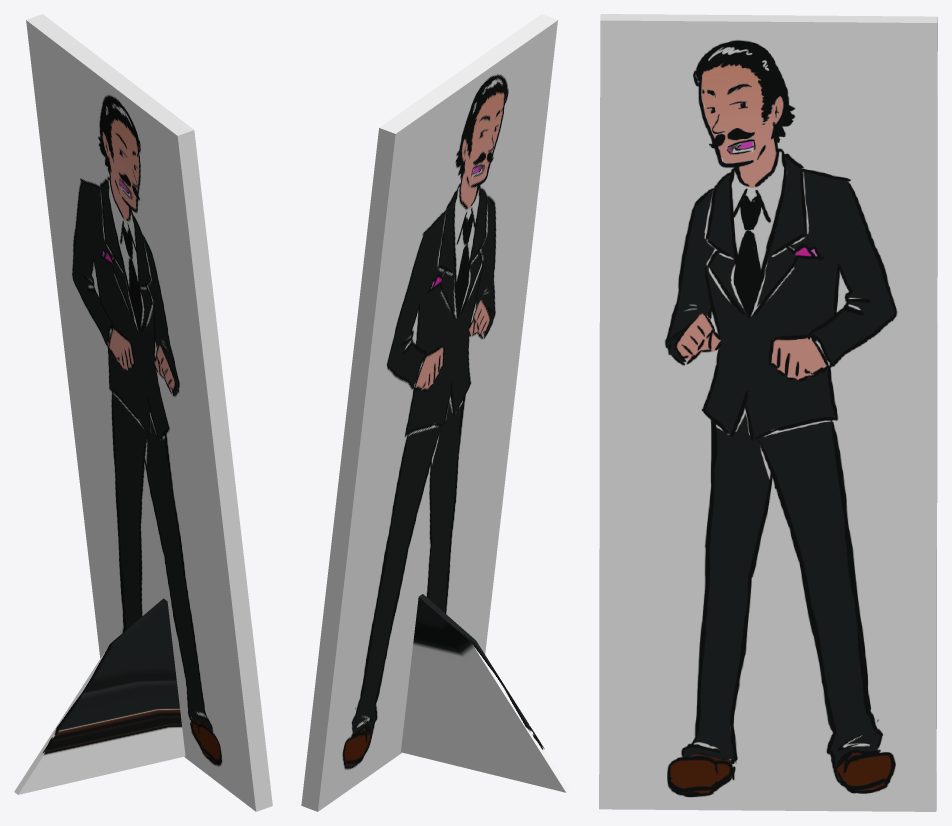
The model's file is spanish guy.fbx.
3 views of the same model, side by side, from view 1: azimuth 30°, elevation 25°; view 2: azimuth 150°, elevation 25°; view 3: azimuth 270°, elevation 25° (orthographic). The views are drawn at different scales.
Parts seen in each view (by area): view 1: Cube; view 2: Cube; view 3: Cube.
Boxes of the visible parts, <box> form: Cube: <box>14,14,272,811</box>; Cube: <box>301,14,570,811</box>; Cube: <box>599,14,937,811</box>.
Size of the model in its own units: 1.16 by 4.16 by 1.7.
